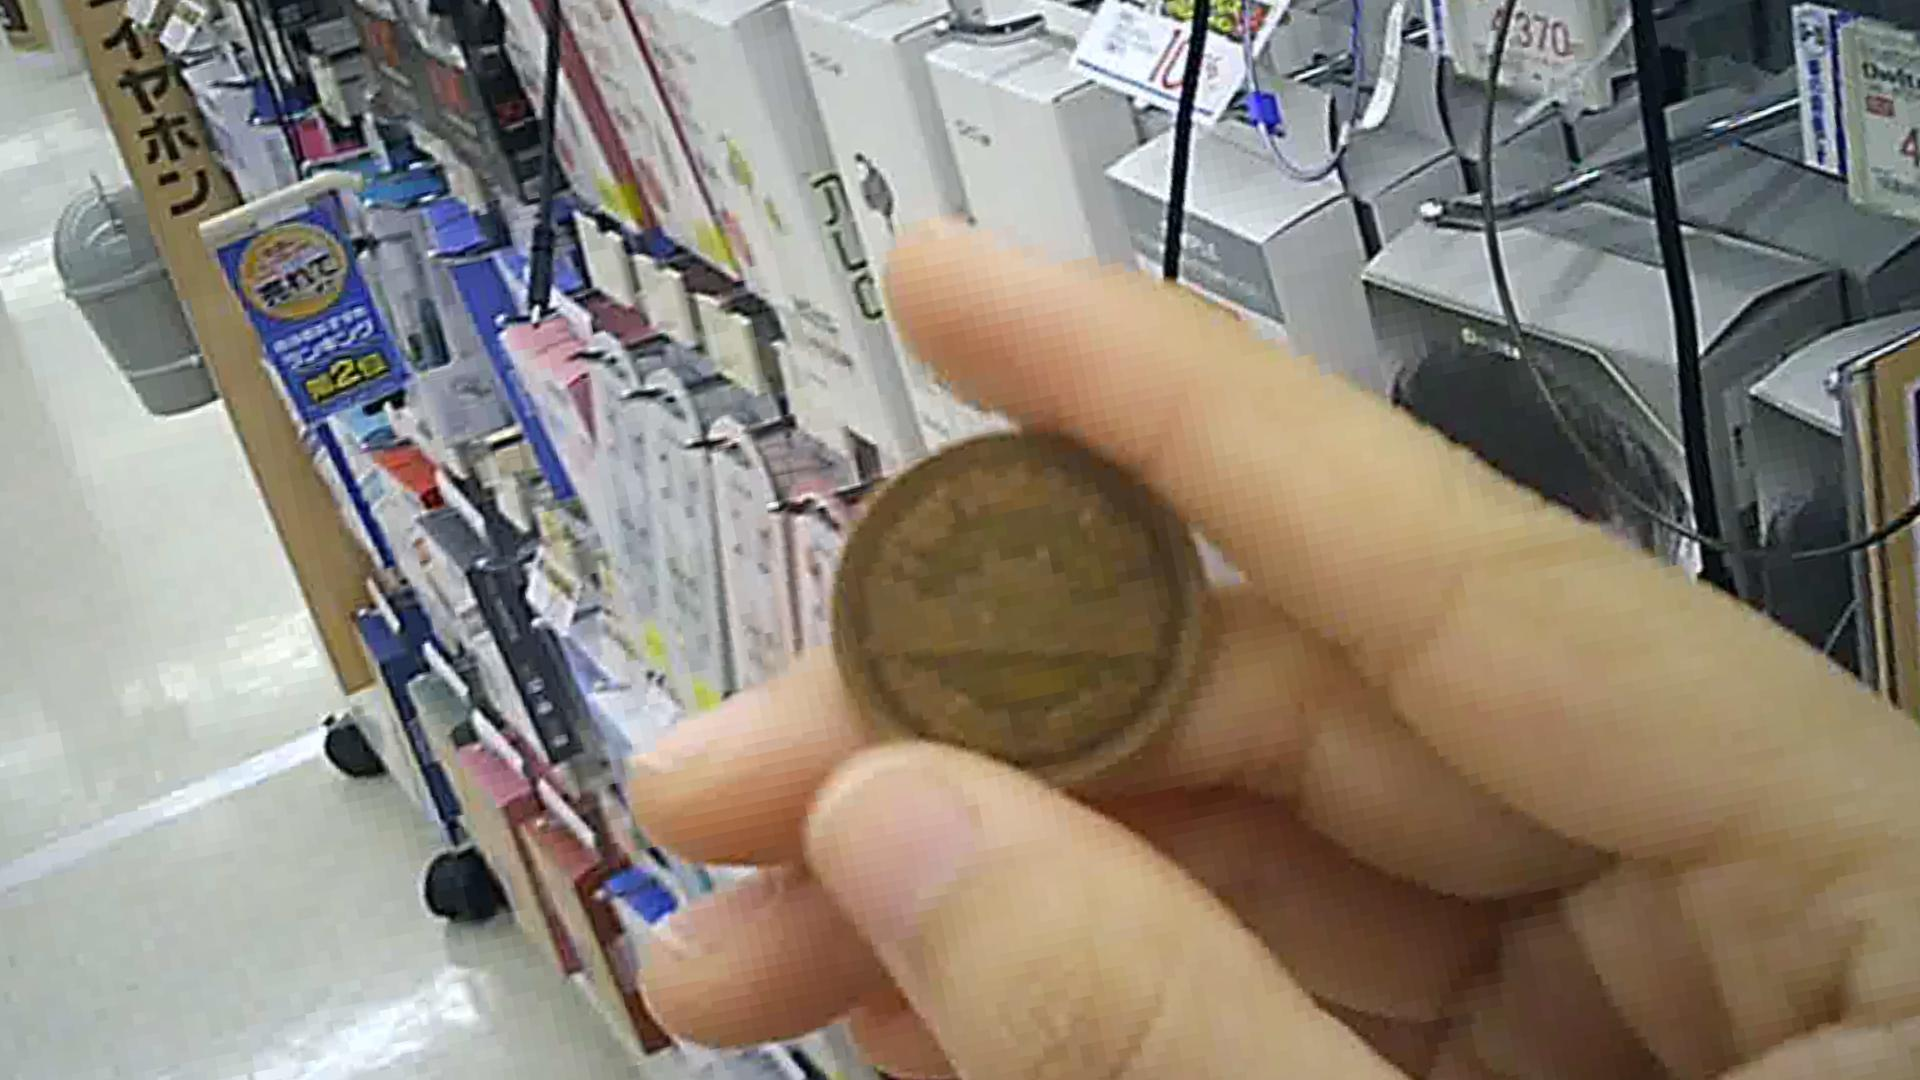10 Yen: (829, 423, 1200, 795)
